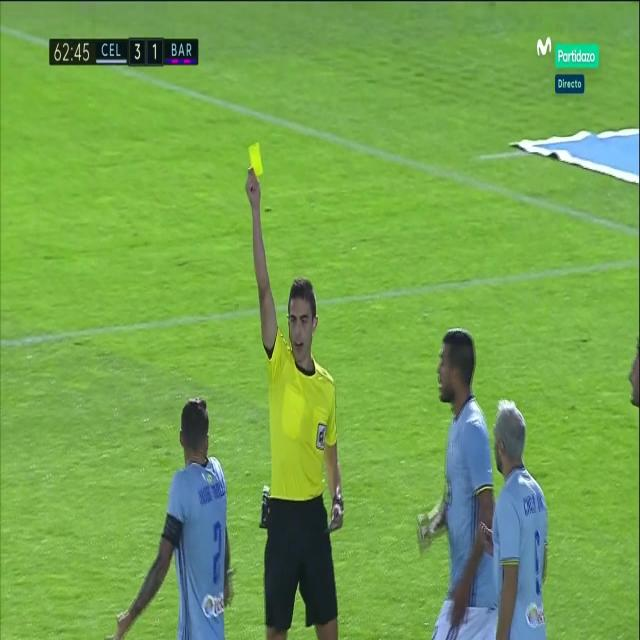Player: (108, 395, 235, 638), (416, 319, 496, 640), (492, 395, 552, 637)
Referee: (240, 166, 347, 638)
